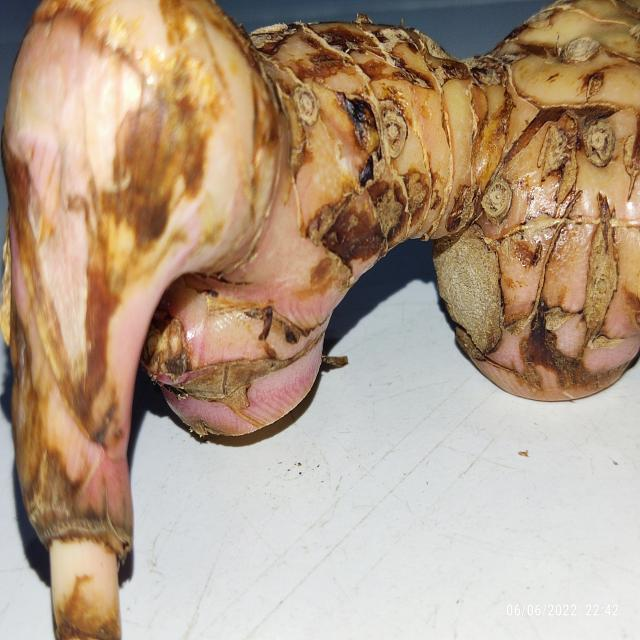ginger: (3, 2, 636, 470)
